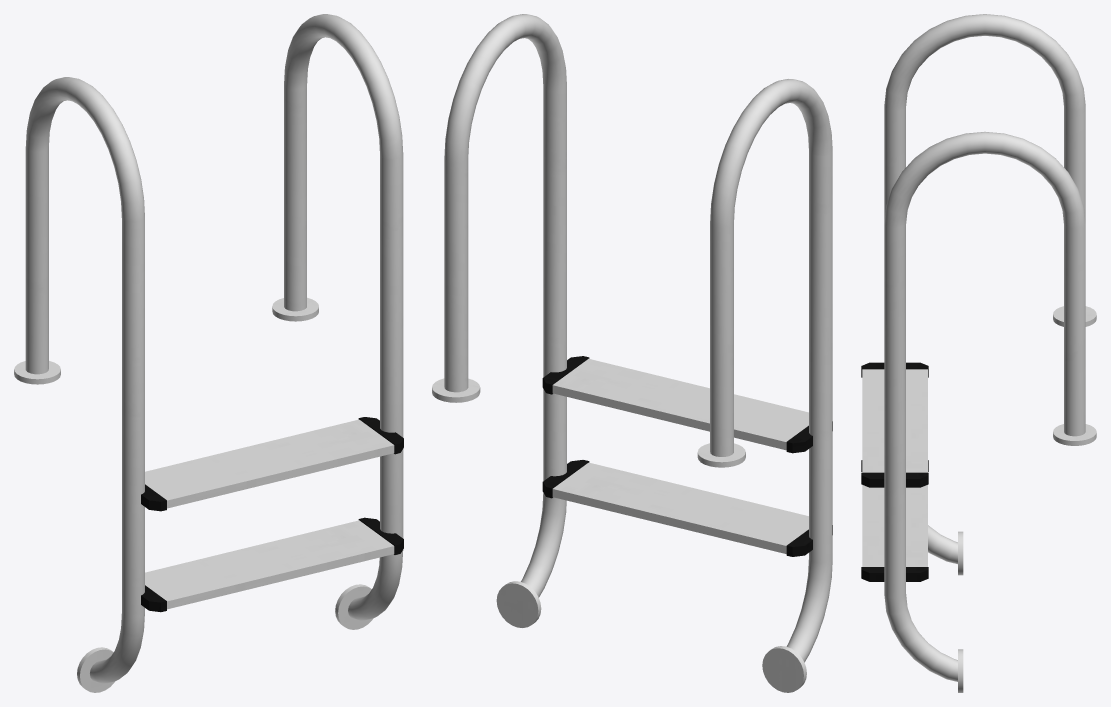
Rendered from pool_ladder.glb.
3 views of the same model, side by side, from view 1: azimuth 30°, elevation 25°; view 2: azimuth 150°, elevation 25°; view 3: azimuth 270°, elevation 25° (orthographic). The views are drawn at different scales.
Visible parts, largest first — view 1: Ladder; view 2: Ladder; view 3: Ladder.
Boxes of the visible parts, x1,y1,x2,y2 form: Ladder: (14, 14, 403, 692); Ladder: (432, 14, 832, 692); Ladder: (861, 14, 1096, 692).
Bounding box in the file's own units: 0.5916 × 1.13 × 0.4321.
1 material, 1 textured.
